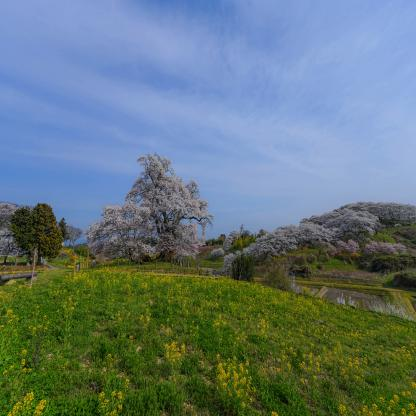EdohiganSakura: (84, 151, 215, 262)
